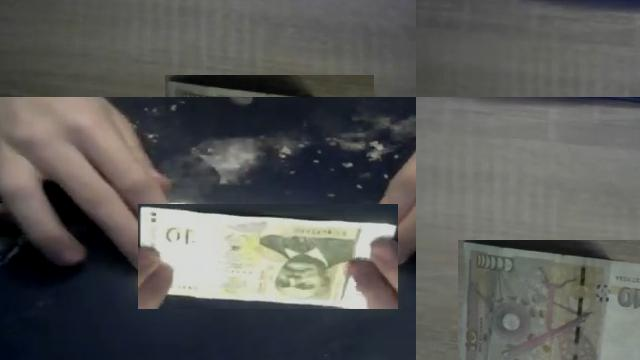10leva: (138, 204, 398, 309), (458, 240, 640, 360)
